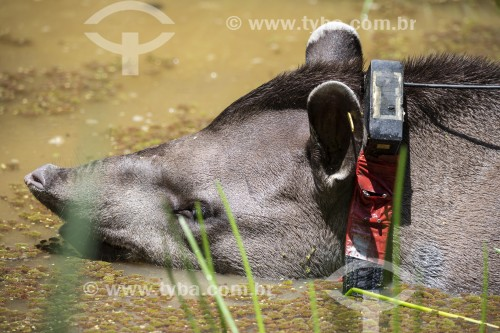Anta: (14, 17, 491, 293)
